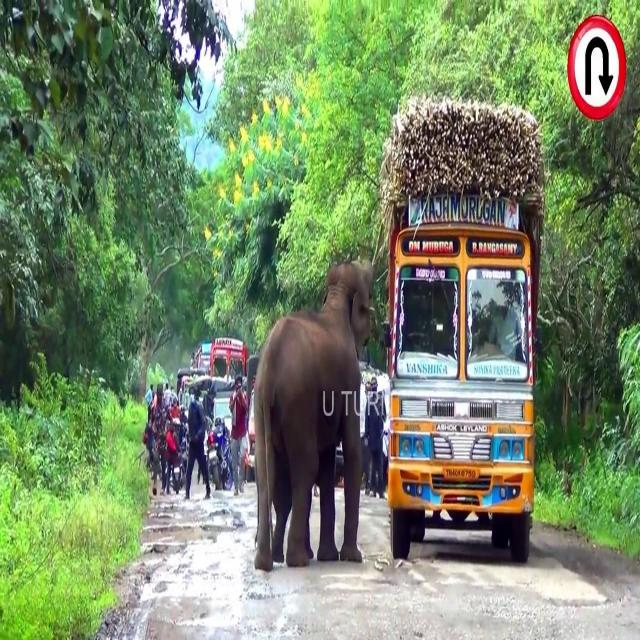Elephant: (252, 260, 374, 574)
